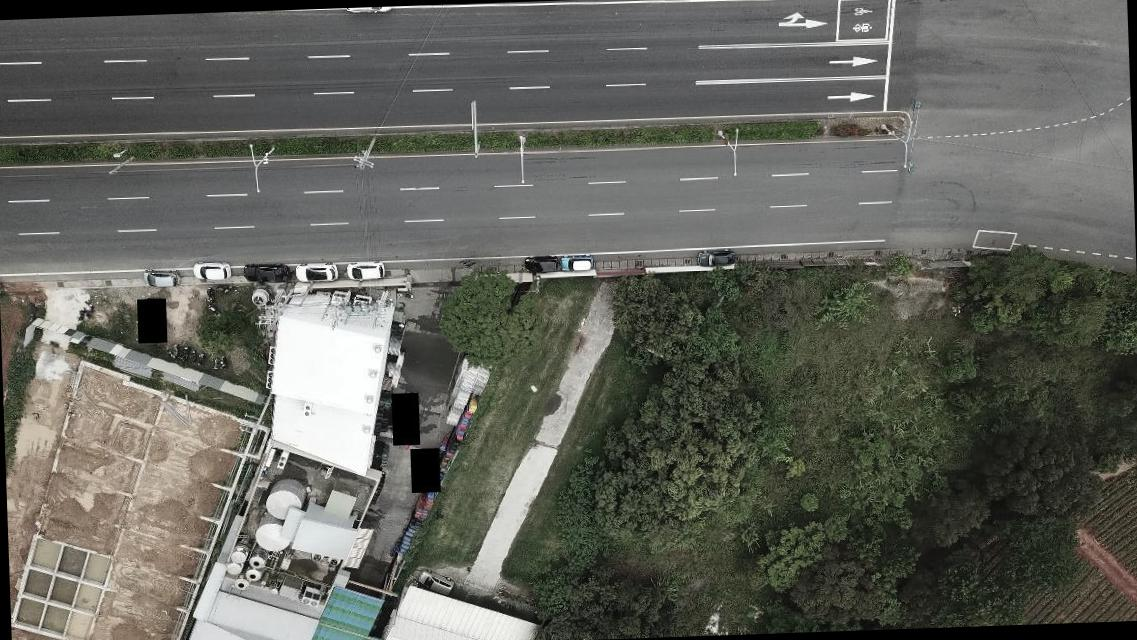vehicle: (244, 260, 290, 282), (140, 268, 182, 288), (696, 248, 736, 268), (345, 260, 384, 280), (188, 262, 231, 280), (558, 254, 596, 273), (294, 264, 337, 280), (522, 254, 556, 274)
